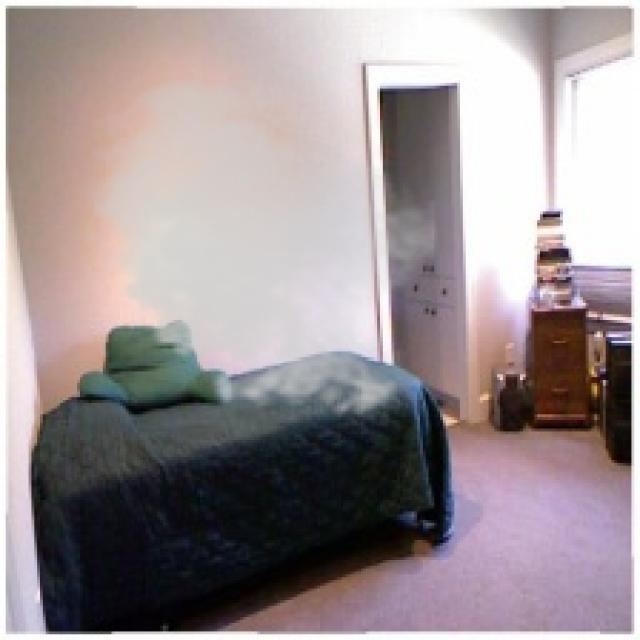smoke: (74, 71, 440, 428)
